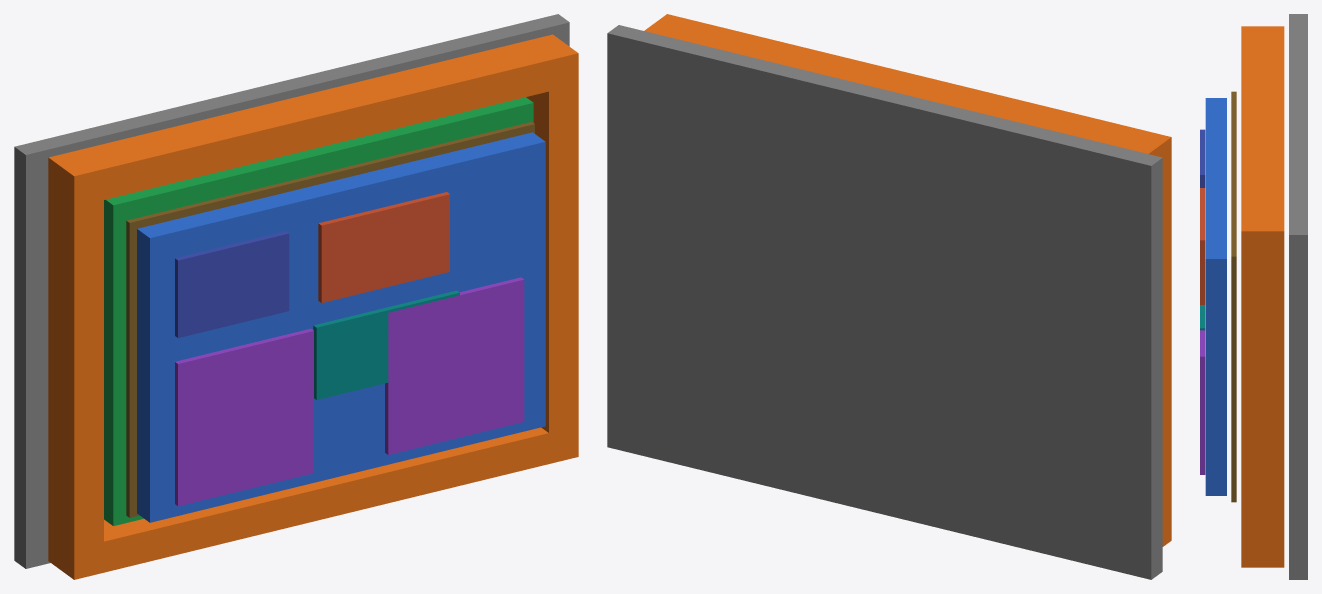
Rendered from afo_chip_package_3d.obj.
3 views of the same model, side by side, from view 1: azimuth 30°, elevation 25°; view 2: azimuth 150°, elevation 25°; view 3: azimuth 270°, elevation 25° (orthographic). The views are drawn at different scales.
Visible parts, largest first — view 1: compute_die, hbf_ring_top, substrate, hbf_ring_bottom, gpu_array_w, gpu_array_e, hbf_ring_left, hbf_ring_right, hbm_ring_top, npu_matrix, cpu_cluster, bridge (+3 smaller); view 2: substrate, hbf_ring_top, hbf_ring_left; view 3: hbf_ring_right, substrate, hbf_ring_top, compute_die, bridge, hbf_ring_bottom, gpu_array_e, npu_matrix, cpu_cluster.
Part boxes in pixels (x1,y1,x2,y2): compute_die: (137,132,545,522); hbf_ring_top: (48,34,578,207); substrate: (14,14,569,568); hbf_ring_bottom: (48,426,578,579); gpu_array_w: (175,328,313,506); gpu_array_e: (385,277,524,454); hbf_ring_left: (48,189,103,548); hbf_ring_right: (526,84,578,432); hbm_ring_top: (104,97,533,241); npu_matrix: (318,192,449,303); cpu_cluster: (175,231,289,337); bridge: (126,122,534,517); substrate: (607,25,1162,579); hbf_ring_top: (644,14,1171,174); hbf_ring_left: (1162,168,1171,515); hbf_ring_right: (1241,257,1284,541); substrate: (1289,14,1307,579); hbf_ring_top: (1241,26,1284,257); compute_die: (1205,98,1226,495); bridge: (1231,91,1236,502); hbf_ring_bottom: (1241,541,1284,567); gpu_array_e: (1200,330,1205,474); npu_matrix: (1200,188,1205,304); cpu_cluster: (1200,129,1205,187).
Size of the model in its own units: 220 by 160 by 45.4.
